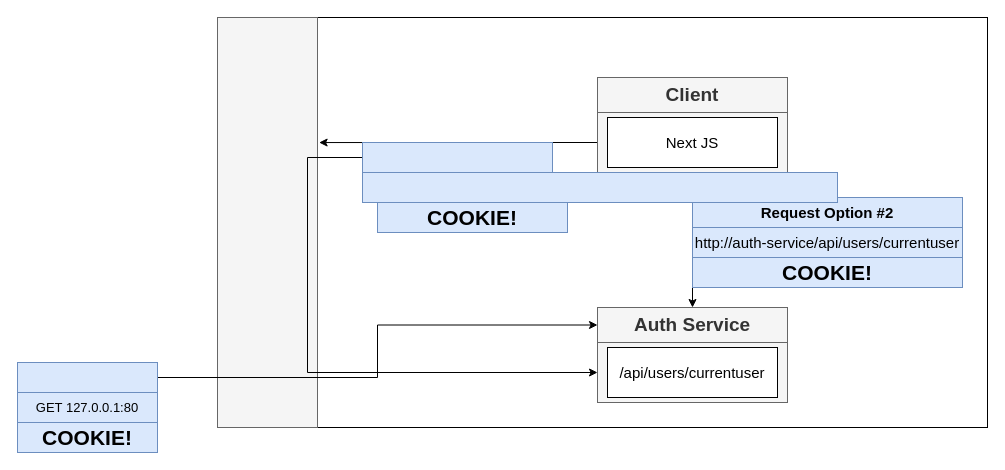
This 1005x470 diagram has some shape labels left out. The box of each missing label's shape, as (x1, y1, x2, y2) in pixels:
http://ingress-nginx.ingress-nginx.svc.cluster.local/api/users/currentuser: (362, 172, 838, 202)
Ingress Nginx: (216, 16, 318, 428)
Request: (16, 362, 158, 392)
Request Option #1: (362, 142, 552, 172)
